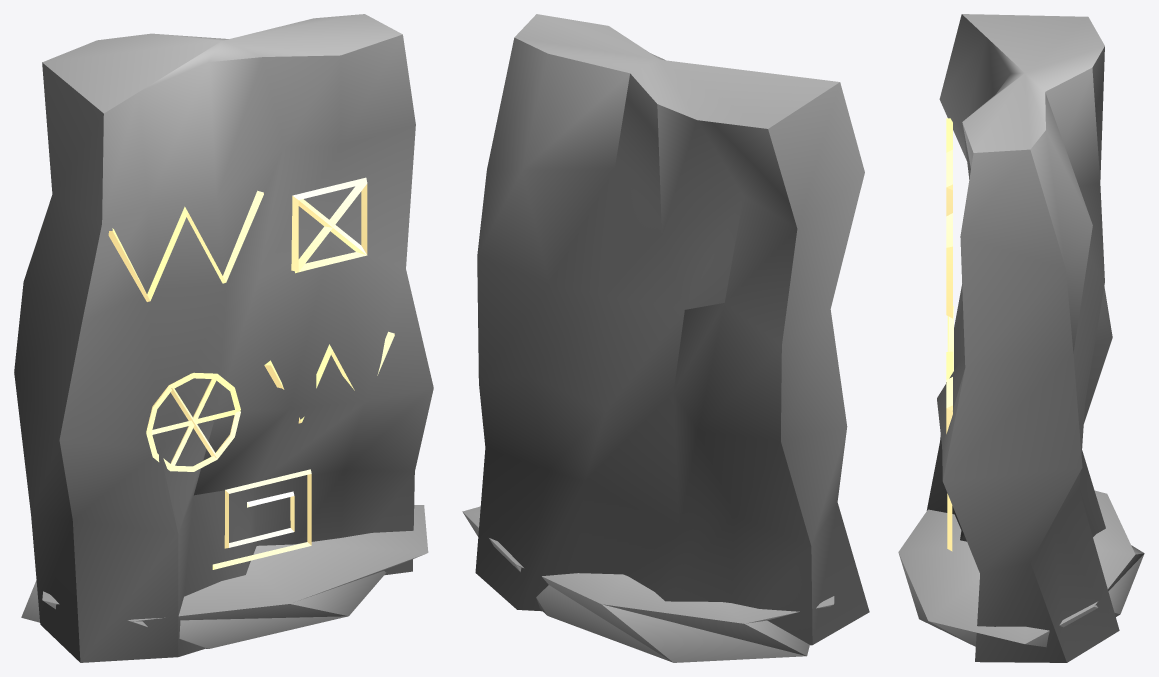
File: rare_marks.glb
The picture shows the model from 3 angles, left to right: view 1: azimuth 30°, elevation 25°; view 2: azimuth 150°, elevation 25°; view 3: azimuth 270°, elevation 25°; orthographic projection. The views are drawn at different scales.
Parts seen in each view (by area): view 1: rare_marks, rare_marks_glow; view 2: rare_marks; view 3: rare_marks, rare_marks_glow.
Part boxes in pixels (x1=…): rare_marks: x1=14, y1=14, x2=433, y2=662; rare_marks_glow: x1=108, y1=177, x2=394, y2=569; rare_marks: x1=462, y1=14, x2=869, y2=662; rare_marks: x1=898, y1=14, x2=1144, y2=662; rare_marks_glow: x1=946, y1=118, x2=953, y2=551.
Bounding box in the file's own units: 1.11 × 1.58 × 0.6642.
